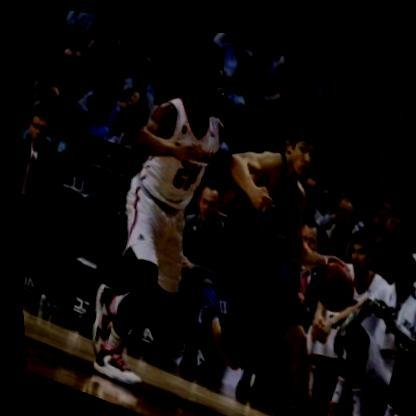basketball: (303, 240, 362, 309)
